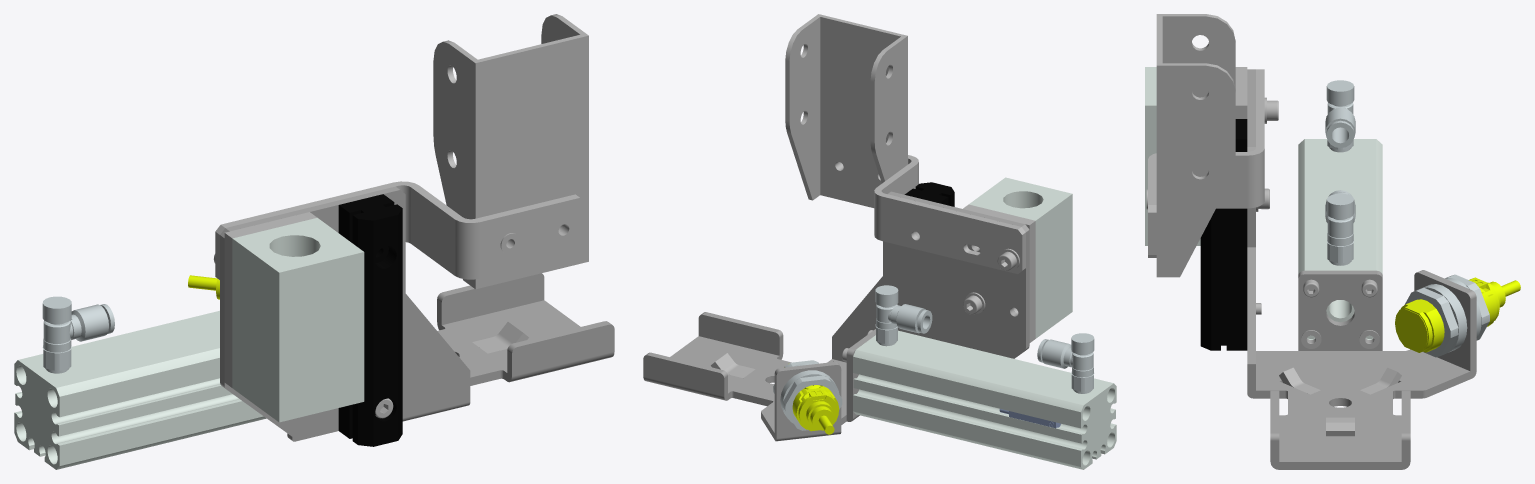
The model's file is Module_nang_ha.glb.
The picture shows the model from 3 angles, left to right: view 1: azimuth 30°, elevation 25°; view 2: azimuth 150°, elevation 25°; view 3: azimuth 270°, elevation 25°; orthographic projection. The views are drawn at different scales.
Visible parts, largest first — view 1: Module_nang_ha-Ga_dau_nhua_boc, Module_nang_ha-Xylanh_day_phoi-Xylanh, Module_nang_ha-Xylanh_nang_ha-Xylanh, Module_nang_ha-Gia_chua_phoi, Module_nang_ha-Ga_nhua_boc, Module_nang_ha-Dinh_vi_gia_chua_phoi, Module_nang_ha-Dau_khi_nen, Module_nang_ha-Ga_gia_chua_phoi; view 2: Module_nang_ha-Gia_chua_phoi, Module_nang_ha-Xylanh_day_phoi-Xylanh, Module_nang_ha-Ga_dau_nhua_boc, Module_nang_ha-Ga_nhua_boc, Module_nang_ha-Xylanh_nang_ha-Xylanh, Module_nang_ha-Dau_khi_nen (×2), Module_nhan_dang-Cam_bien_E3FA, Module_nhan_dang-Cam_bien_E3FA-Ga, Module_nang_ha-Ga_gia_chua_phoi, Module_nang_ha-Dinh_vi_gia_chua_phoi; view 3: Module_nang_ha-Gia_chua_phoi, Module_nang_ha-Ga_dau_nhua_boc, Module_nang_ha-Xylanh_day_phoi-Xylanh, Module_nang_ha-Dinh_vi_gia_chua_phoi, Module_nang_ha-Dau_khi_nen (×2), Module_nang_ha-Ga_nhua_boc, Module_nhan_dang-Cam_bien_E3FA, Module_nhan_dang-Cam_bien_E3FA-Ga (×2), Module_nang_ha-Xylanh_nang_ha-Xylanh, Module_nang_ha-Ga_gia_chua_phoi.
Boxes of the visible parts, x1,y1,x2,y2 form: Module_nang_ha-Ga_dau_nhua_boc: (433, 14, 588, 289); Module_nang_ha-Xylanh_day_phoi-Xylanh: (14, 310, 266, 469); Module_nang_ha-Xylanh_nang_ha-Xylanh: (232, 217, 364, 422); Module_nang_ha-Gia_chua_phoi: (220, 186, 614, 441); Module_nang_ha-Ga_nhua_boc: (215, 181, 585, 280); Module_nang_ha-Dinh_vi_gia_chua_phoi: (338, 194, 402, 446); Module_nang_ha-Dau_khi_nen: (42, 296, 114, 373); Module_nang_ha-Ga_gia_chua_phoi: (224, 212, 316, 387); Module_nang_ha-Gia_chua_phoi: (643, 191, 1029, 441); Module_nang_ha-Xylanh_day_phoi-Xylanh: (853, 330, 1116, 469); Module_nang_ha-Ga_dau_nhua_boc: (785, 14, 907, 207); Module_nang_ha-Ga_nhua_boc: (837, 155, 1025, 273); Module_nang_ha-Xylanh_nang_ha-Xylanh: (969, 177, 1072, 338); Module_nang_ha-Dau_khi_nen (×2): (875, 285, 1094, 393); Module_nhan_dang-Cam_bien_E3FA: (792, 385, 839, 434); Module_nhan_dang-Cam_bien_E3FA-Ga: (780, 370, 842, 430); Module_nang_ha-Ga_gia_chua_phoi: (963, 204, 1035, 342); Module_nang_ha-Dinh_vi_gia_chua_phoi: (904, 182, 954, 206); Module_nang_ha-Gia_chua_phoi: (1247, 69, 1476, 469); Module_nang_ha-Ga_dau_nhua_boc: (1156, 14, 1235, 277); Module_nang_ha-Xylanh_day_phoi-Xylanh: (1298, 139, 1382, 339); Module_nang_ha-Dinh_vi_gia_chua_phoi: (1200, 119, 1247, 350); Module_nang_ha-Dau_khi_nen (×2): (1325, 80, 1355, 265); Module_nang_ha-Ga_nhua_boc: (1148, 69, 1264, 257); Module_nhan_dang-Cam_bien_E3FA: (1395, 277, 1520, 352); Module_nhan_dang-Cam_bien_E3FA-Ga (×2): (1404, 274, 1489, 357); Module_nang_ha-Xylanh_nang_ha-Xylanh: (1145, 67, 1200, 245); Module_nang_ha-Ga_gia_chua_phoi: (1235, 67, 1247, 118).
Size of the model in its own units: 0.2 by 0.138 by 0.1289.
